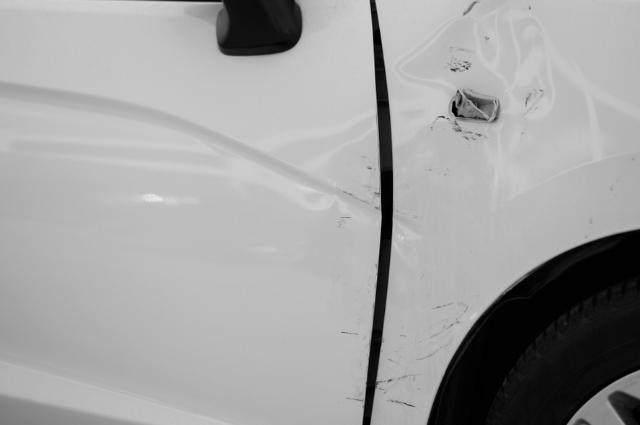Door: (6, 36, 382, 425)
Fender: (384, 3, 620, 236)
